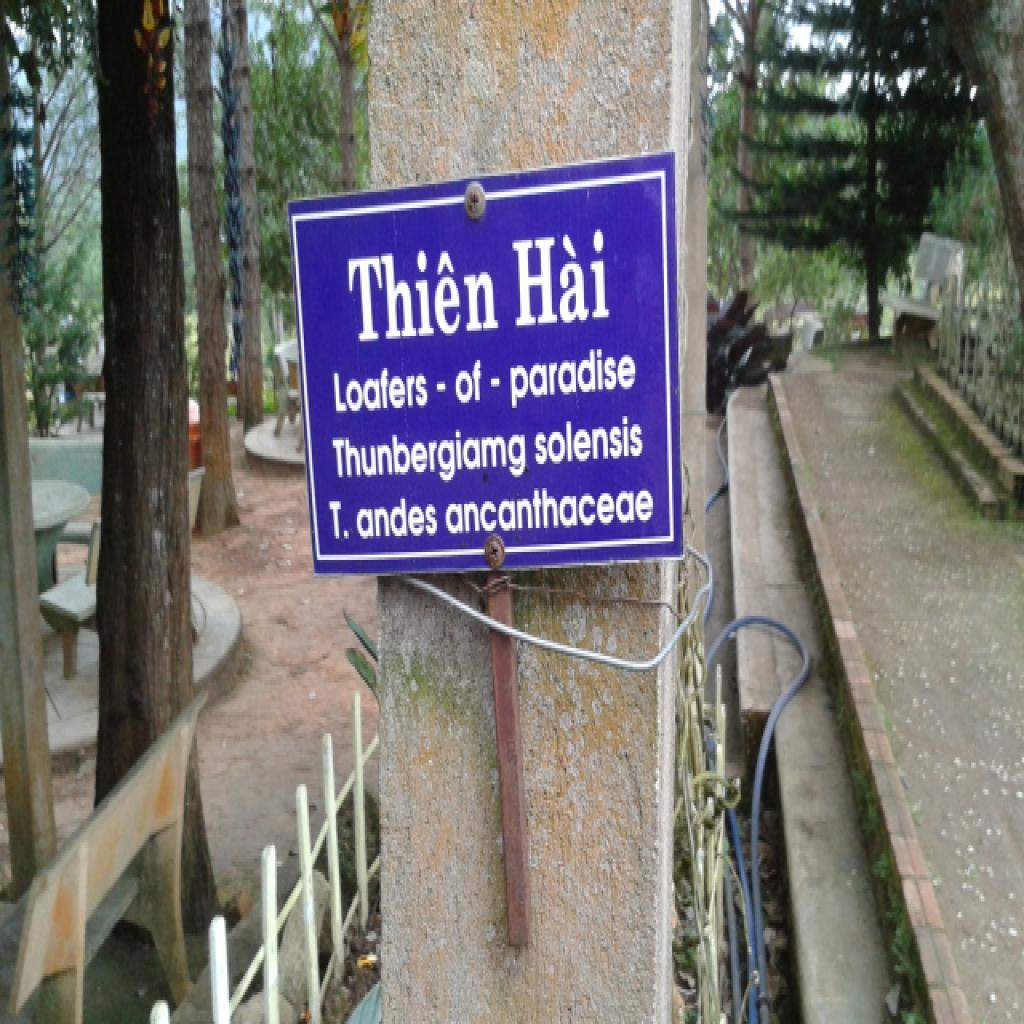text: (342, 232, 500, 352), (328, 419, 531, 493), (506, 216, 614, 339), (504, 341, 640, 416), (530, 408, 646, 475), (325, 352, 432, 424), (355, 488, 440, 549), (446, 355, 486, 413), (323, 493, 355, 544)
